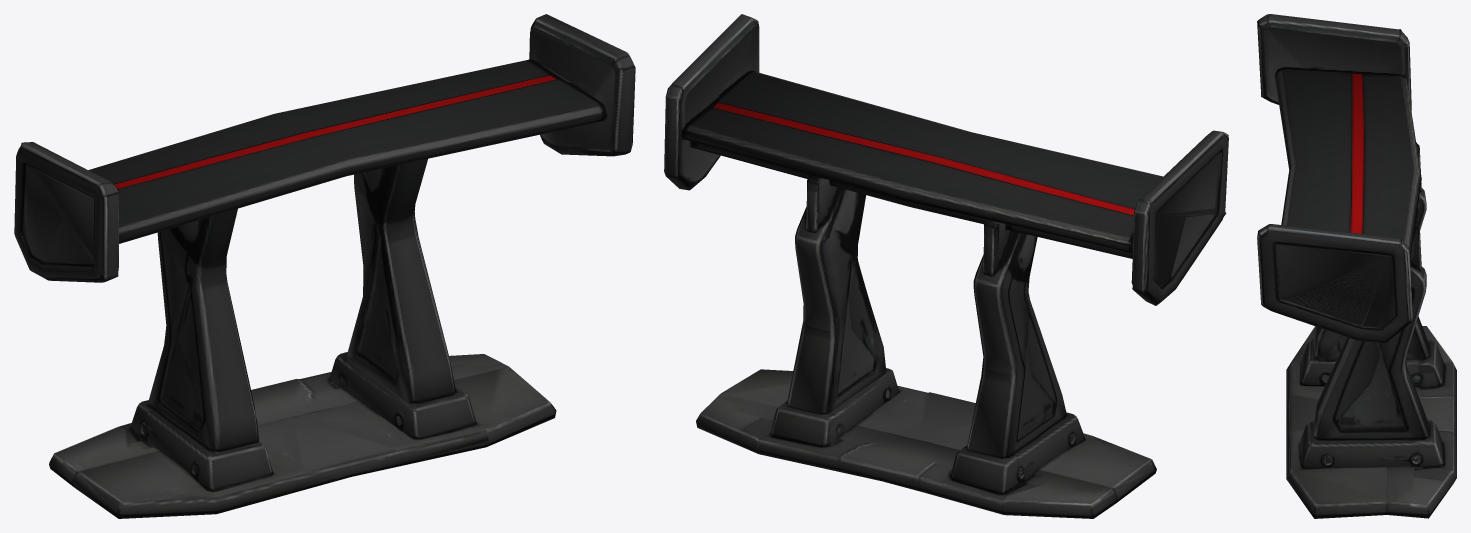
File: blitz-rear_spoiler.glb
The picture shows the model from 3 angles, left to right: view 1: azimuth 30°, elevation 25°; view 2: azimuth 150°, elevation 25°; view 3: azimuth 270°, elevation 25°; orthographic projection. The views are drawn at different scales.
Parts seen in each view (by area): view 1: tripo_node_2864680a-e4cd-456e-b6c4-1330a7f5ac67; view 2: tripo_node_2864680a-e4cd-456e-b6c4-1330a7f5ac67; view 3: tripo_node_2864680a-e4cd-456e-b6c4-1330a7f5ac67.
Boxes of the visible parts, left/top/right/bottom form: tripo_node_2864680a-e4cd-456e-b6c4-1330a7f5ac67: left=14, top=14, right=635, bottom=518; tripo_node_2864680a-e4cd-456e-b6c4-1330a7f5ac67: left=664, top=14, right=1228, bottom=518; tripo_node_2864680a-e4cd-456e-b6c4-1330a7f5ac67: left=1257, top=14, right=1456, bottom=518.
Bounding box in the file's own units: 0.6294 × 0.42 × 0.2451.
Materials: 1 (1 with a texture image).
